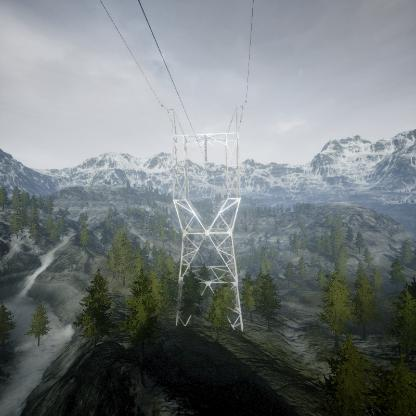tower: (163, 106, 247, 333)
